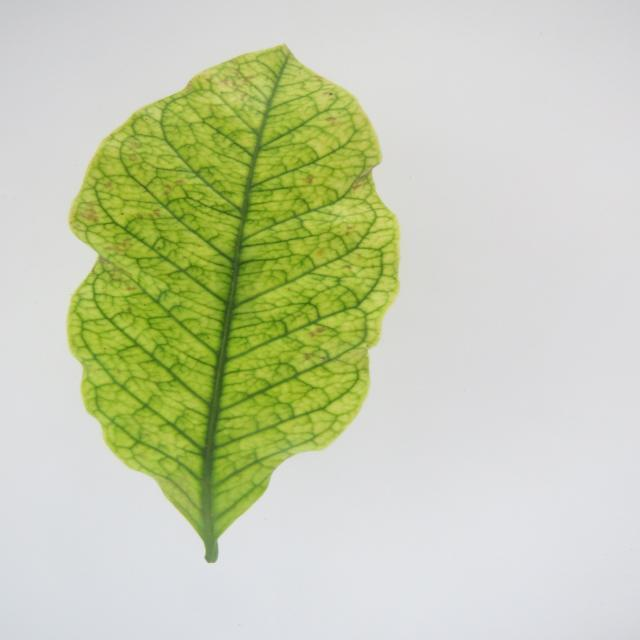DeficienciaNutricional-Hierro: (68, 46, 398, 562)
